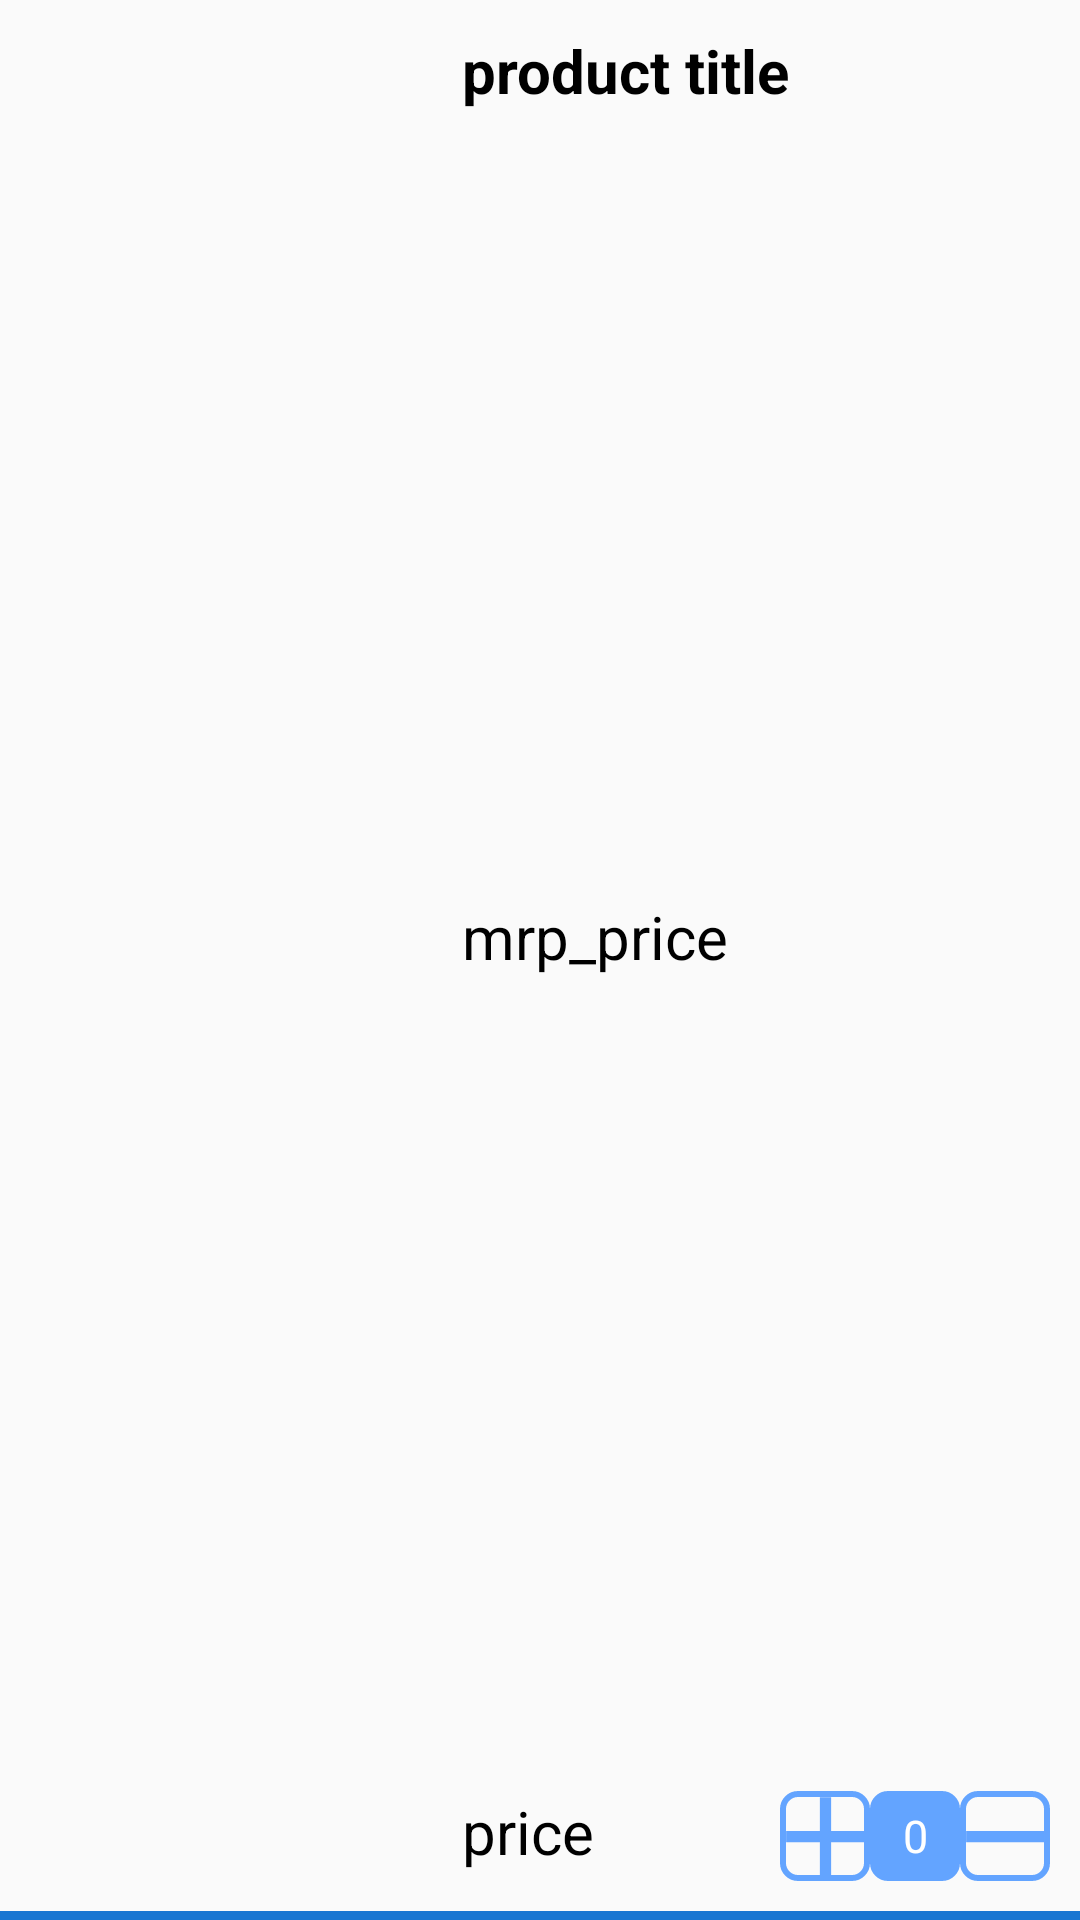

Named icons in this screenshot (1080 x 1920) and their bounding boxes, (x1, y1, x2, y2):
minus button: (960, 1791, 1050, 1881)
